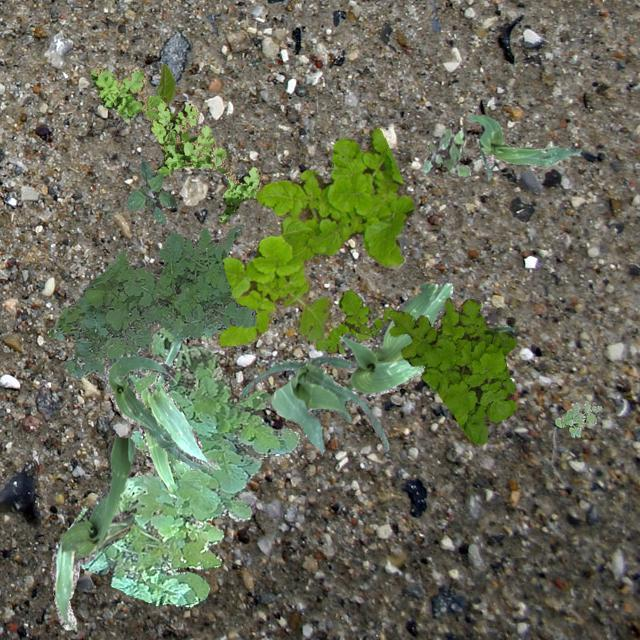crop: (337, 276, 517, 396), (49, 436, 134, 628), (238, 354, 388, 452), (138, 336, 218, 496), (102, 352, 202, 468), (468, 114, 580, 180), (156, 62, 188, 140)
weed: (76, 322, 298, 606), (215, 126, 414, 346), (48, 222, 256, 378), (88, 66, 262, 220), (388, 296, 516, 444), (314, 288, 394, 352), (126, 160, 176, 226), (420, 126, 470, 176), (554, 400, 602, 436)
